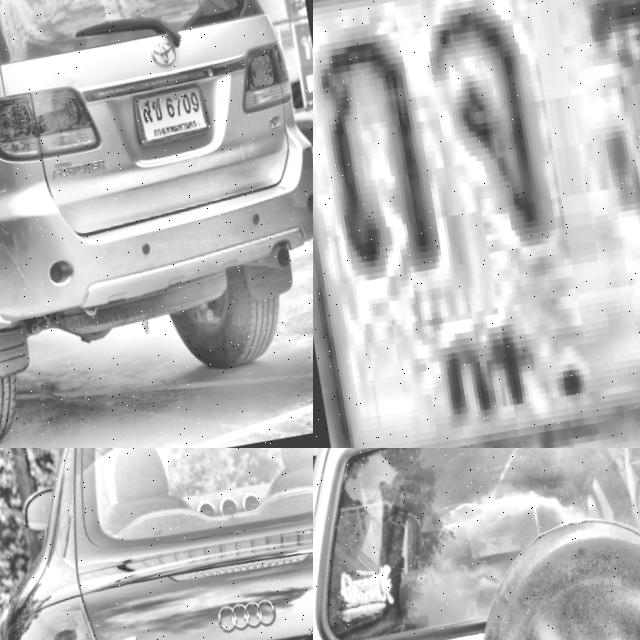license-plate: (313, 0, 640, 448), (126, 72, 218, 149)
